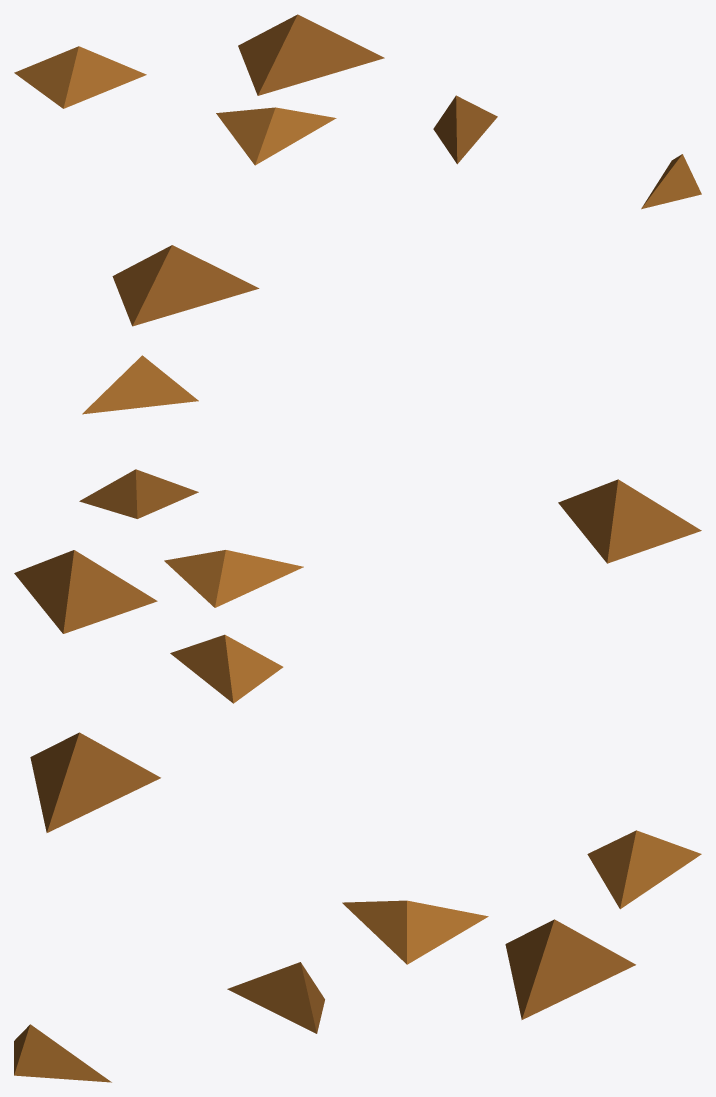
3 views of the same model, one above another, from view 1: azimuth 30°, elevation 25°; view 2: azimuth 150°, elevation 25°; view 3: azimuth 270°, elevation 25° (orthographic). The views are drawn at different scales.
Size of the model in its own units: 94 by 8 by 84.
1 material, 1 textured.
